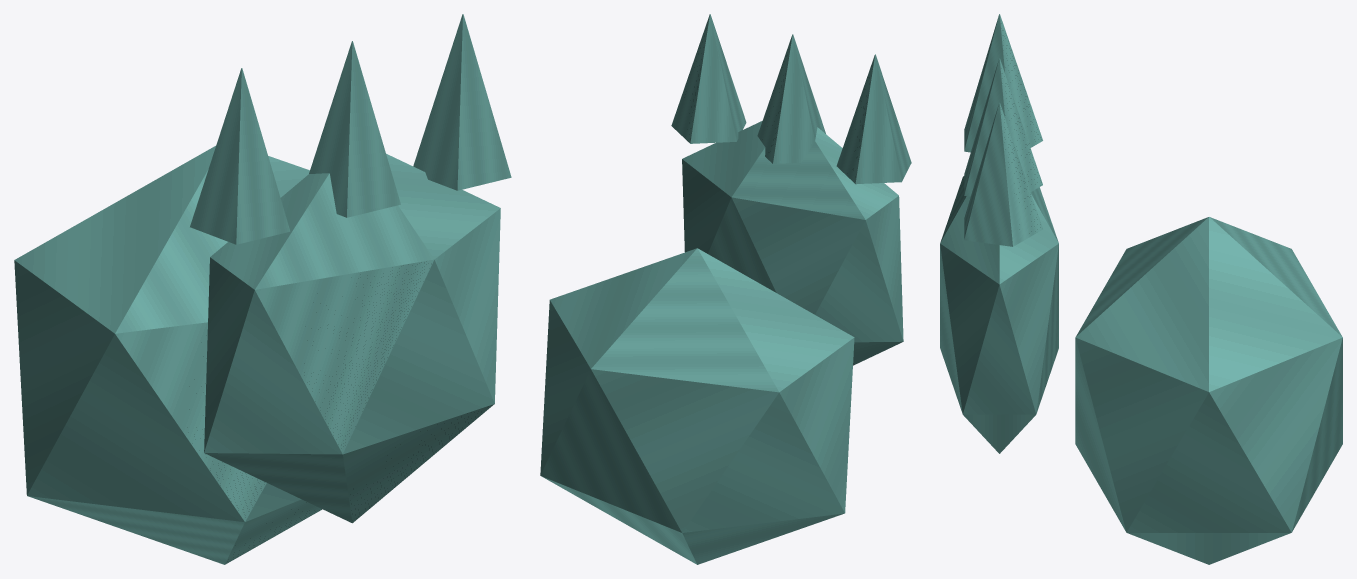
File: quick_chant.glb
3 views of the same model, side by side, from view 1: azimuth 30°, elevation 25°; view 2: azimuth 150°, elevation 25°; view 3: azimuth 270°, elevation 25° (orthographic). The views are drawn at different scales.
Parts seen in each view (by area): view 1: gear_quick_chant; view 2: gear_quick_chant; view 3: gear_quick_chant.
Boxes of the visible parts, bbox=[...] form: gear_quick_chant: bbox=[14, 14, 511, 564]; gear_quick_chant: bbox=[540, 14, 911, 564]; gear_quick_chant: bbox=[940, 14, 1342, 564].
Size of the model in its own units: 0.2147 by 0.32 by 0.2306.
1 material, 1 textured.
